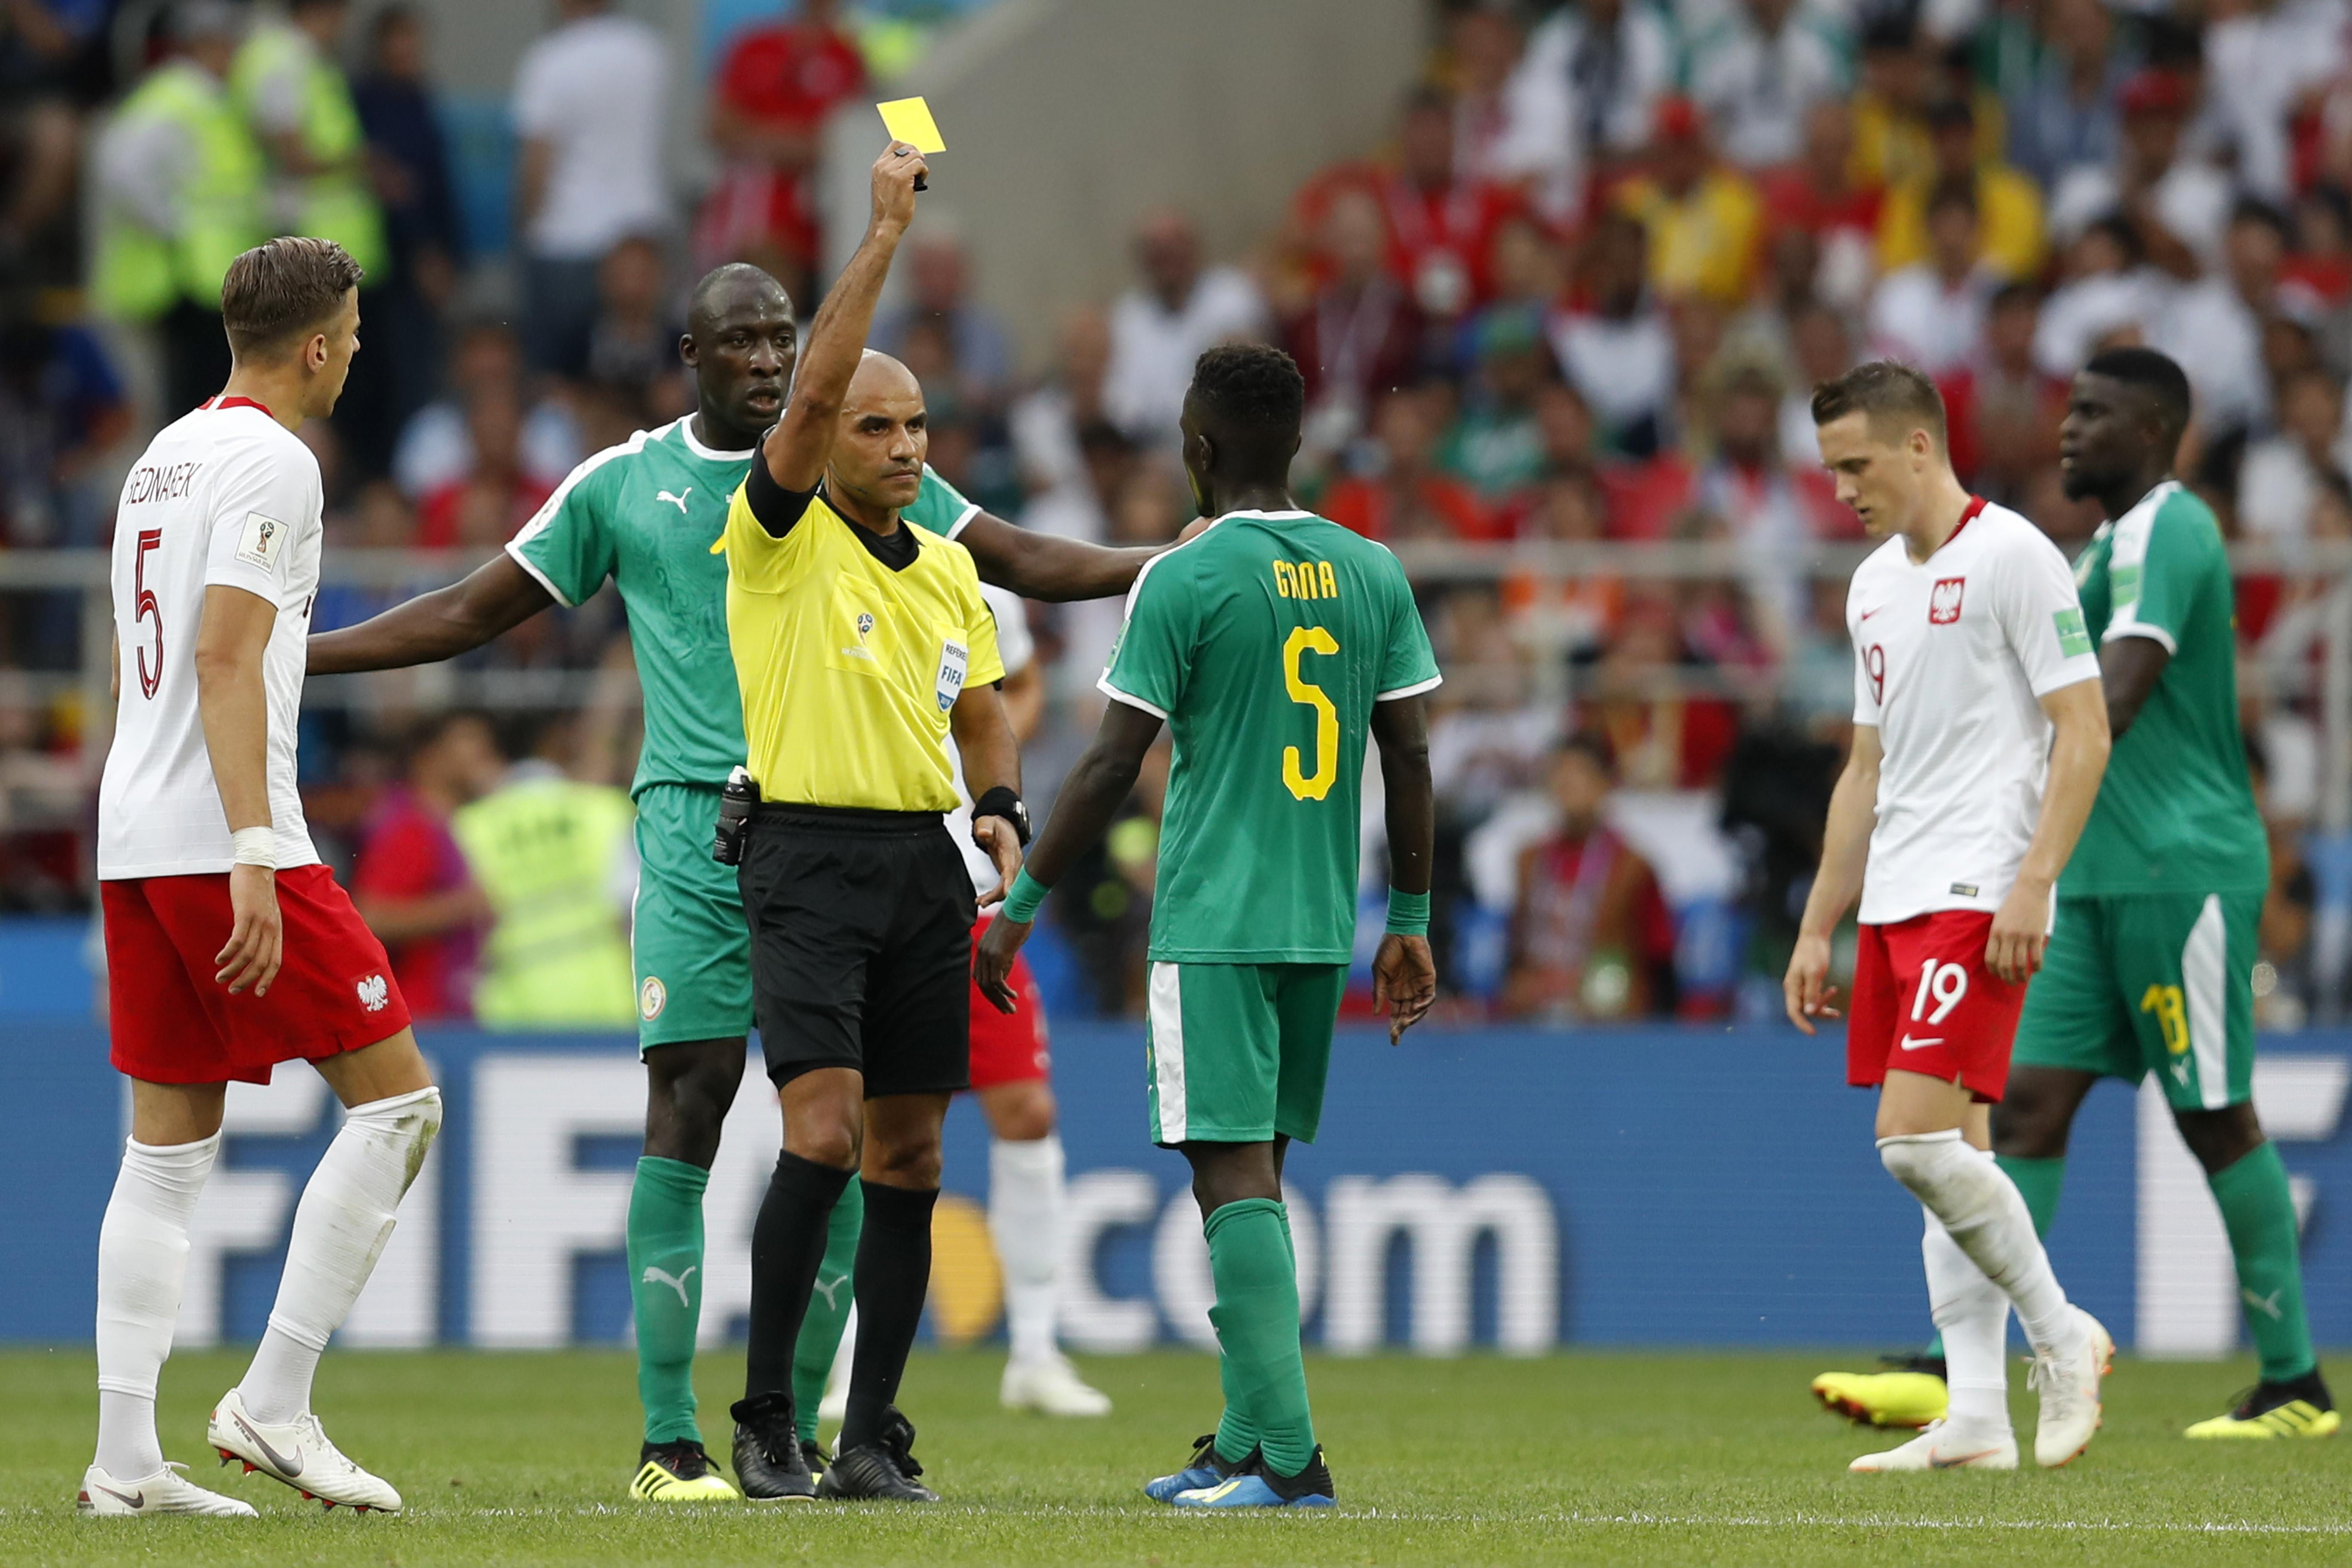yellow_card: (836, 84, 969, 259)
